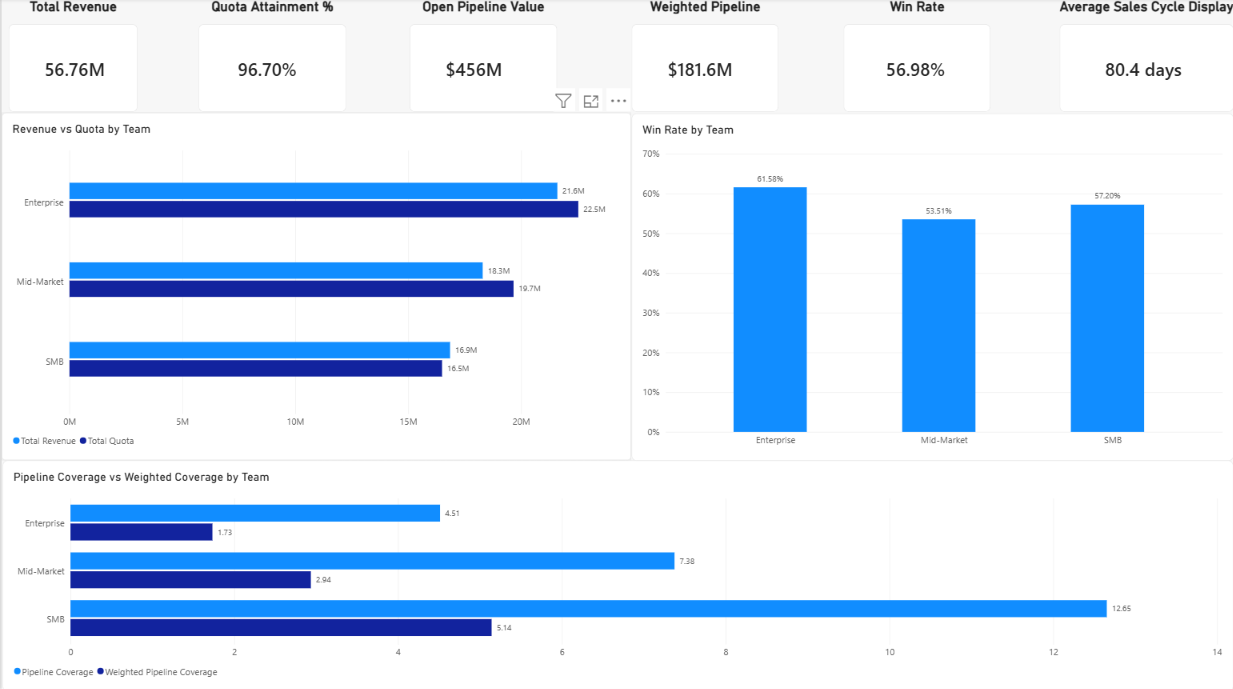

The dashboard page shown, as its layout file describes it:
{"tool":"powerbi","page":{"name":"Executive Overview","canvas":[1920,1080],"ordinal":0},"visuals":[{"type":"cardVisual","title":"Total Revenue","fields":{"Data":["sales_transactions.Total Revenue"]},"box":[10.3,0,201.7,177],"z":0},{"type":"cardVisual","title":"Quota Attainment %","fields":{"Data":["sales_transactions.Quota Attainment %"]},"box":[306.7,0,230.5,177],"z":1000},{"type":"cardVisual","title":"Open Pipeline Value","fields":{"Data":["opportunities.Open Pipeline Value"]},"box":[636,0,230.5,177],"z":2000},{"type":"cardVisual","title":"Weighted Pipeline","fields":{"Data":["opportunities.Weighted Pipeline"]},"box":[981.8,0,230,177.1],"z":3000},{"type":"cardVisual","title":"Win Rate","fields":{"Data":["opportunities.Win Rate"]},"box":[1313.2,0,230,177.1],"z":4000},{"type":"cardVisual","title":"Average Sales Cycle Display","fields":{"Data":["opportunities.Average Sales Cycle Display"]},"box":[1648.7,0,271.7,177],"z":5000},{"type":"clusteredBarChart","title":"Revenue vs Quota by Team","fields":{"Category":["sales_reps.team"],"Y":["sales_transactions.Total Revenue","quotas.Total Quota"]},"box":[0,177,981.8,543.4],"z":6000},{"type":"clusteredBarChart","title":"Pipeline Coverage vs Weighted Coverage by Team","fields":{"Category":["sales_reps.team"],"Y":["opportunities.Pipeline Coverage","opportunities.Weighted Pipeline Coverage"]},"box":[2.1,720.4,1918.4,360.2],"z":7000},{"type":"clusteredColumnChart","title":"Win Rate by Team","fields":{"Category":["sales_reps.team"],"Y":["opportunities.Win Rate"]},"box":[981.8,179.1,938.6,541.3],"z":8000}]}

Visuals, with their boxes in screenshot pixels (x1, y1, x2, y2), scaled from the page's 1920x1080 canvas onto the 1233x689 screenshot:
"Total Revenue" cardVisual: {"left": 7, "top": 0, "right": 136, "bottom": 113}
"Quota Attainment %" cardVisual: {"left": 197, "top": 0, "right": 345, "bottom": 113}
"Open Pipeline Value" cardVisual: {"left": 408, "top": 0, "right": 556, "bottom": 113}
"Weighted Pipeline" cardVisual: {"left": 630, "top": 0, "right": 778, "bottom": 113}
"Win Rate" cardVisual: {"left": 843, "top": 0, "right": 991, "bottom": 113}
"Average Sales Cycle Display" cardVisual: {"left": 1059, "top": 0, "right": 1232, "bottom": 113}
"Revenue vs Quota by Team" clusteredBarChart: {"left": 0, "top": 113, "right": 630, "bottom": 460}
"Pipeline Coverage vs Weighted Coverage by Team" clusteredBarChart: {"left": 1, "top": 460, "right": 1232, "bottom": 688}
"Win Rate by Team" clusteredColumnChart: {"left": 630, "top": 114, "right": 1232, "bottom": 460}
